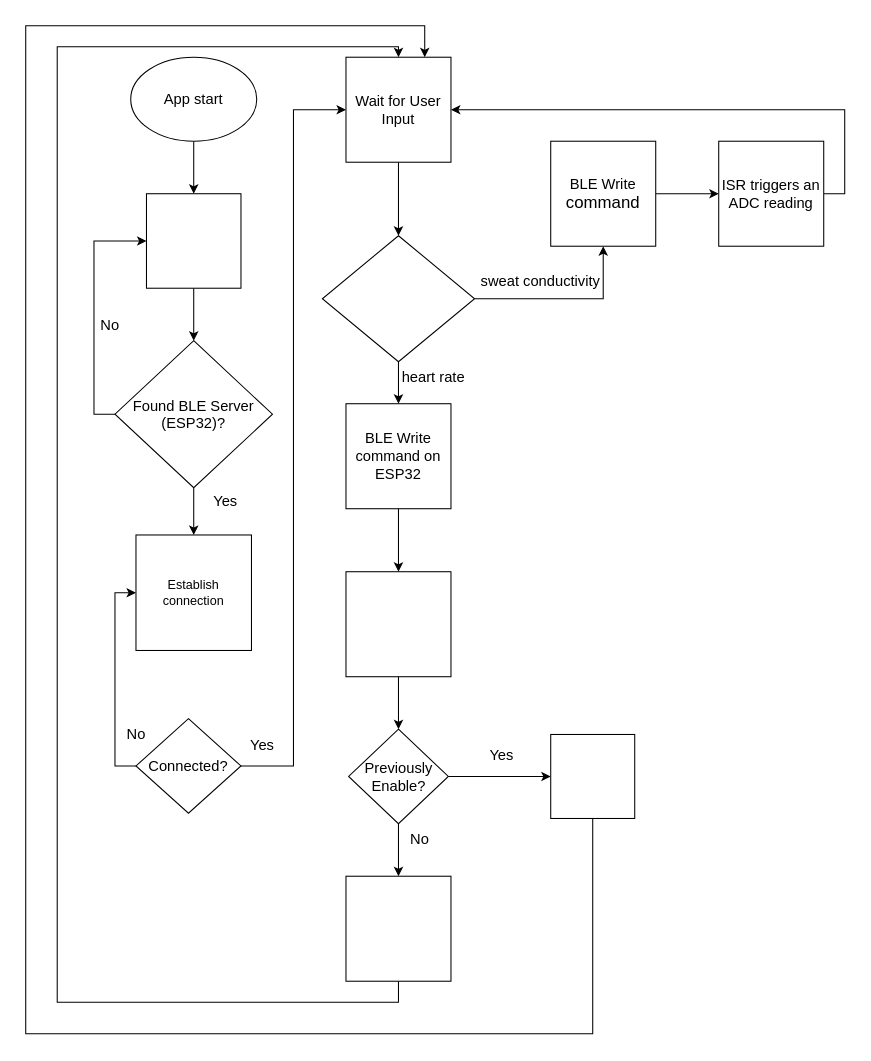
Some shapes in this 871 by 1061 pixel diagram are drawn without their labels. The centre of each missing label's shape, as x and y in pixels:
ISR toggles flag: the point at 398,624
Scanning for BLE devices: the point at 193,240
Start heart rate data collection (I2C): the point at 398,928
Stop heart rate data collection: the point at 592,775
Which type of data? (Button Press): the point at 398,298
